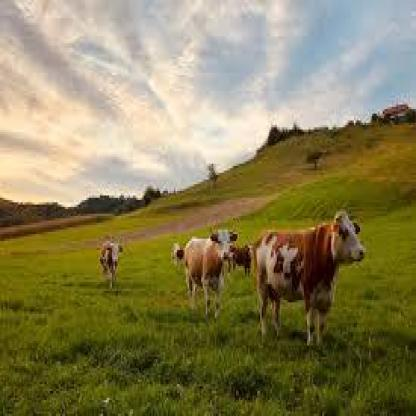cow: (252, 209, 367, 348), (182, 228, 239, 318), (98, 238, 124, 288), (228, 244, 252, 278), (168, 239, 184, 266)
